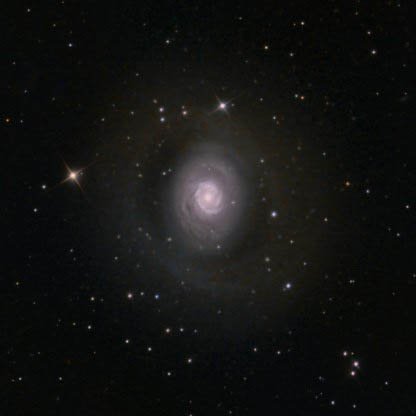Messier 94: (93, 84, 327, 316)
